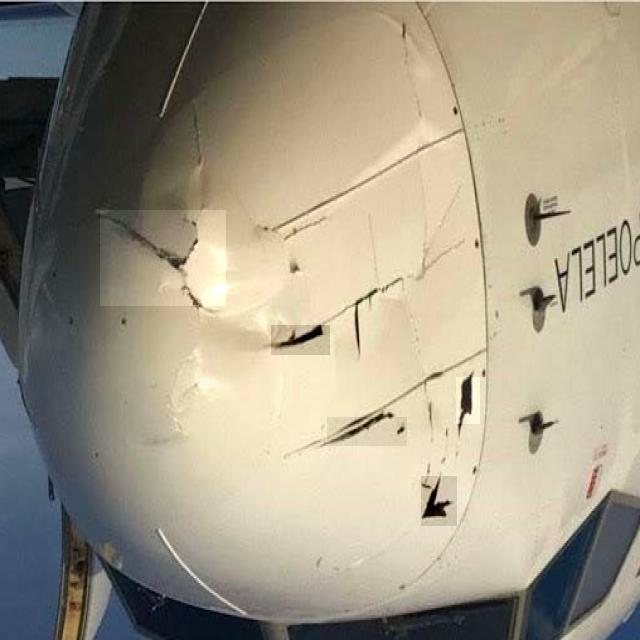crack: (101, 211, 227, 308), (328, 418, 408, 447), (422, 477, 458, 527), (272, 326, 331, 356), (457, 378, 481, 425)
